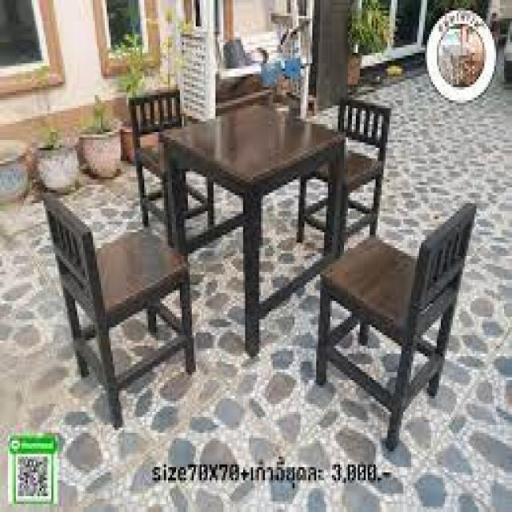table: (152, 101, 354, 209)
